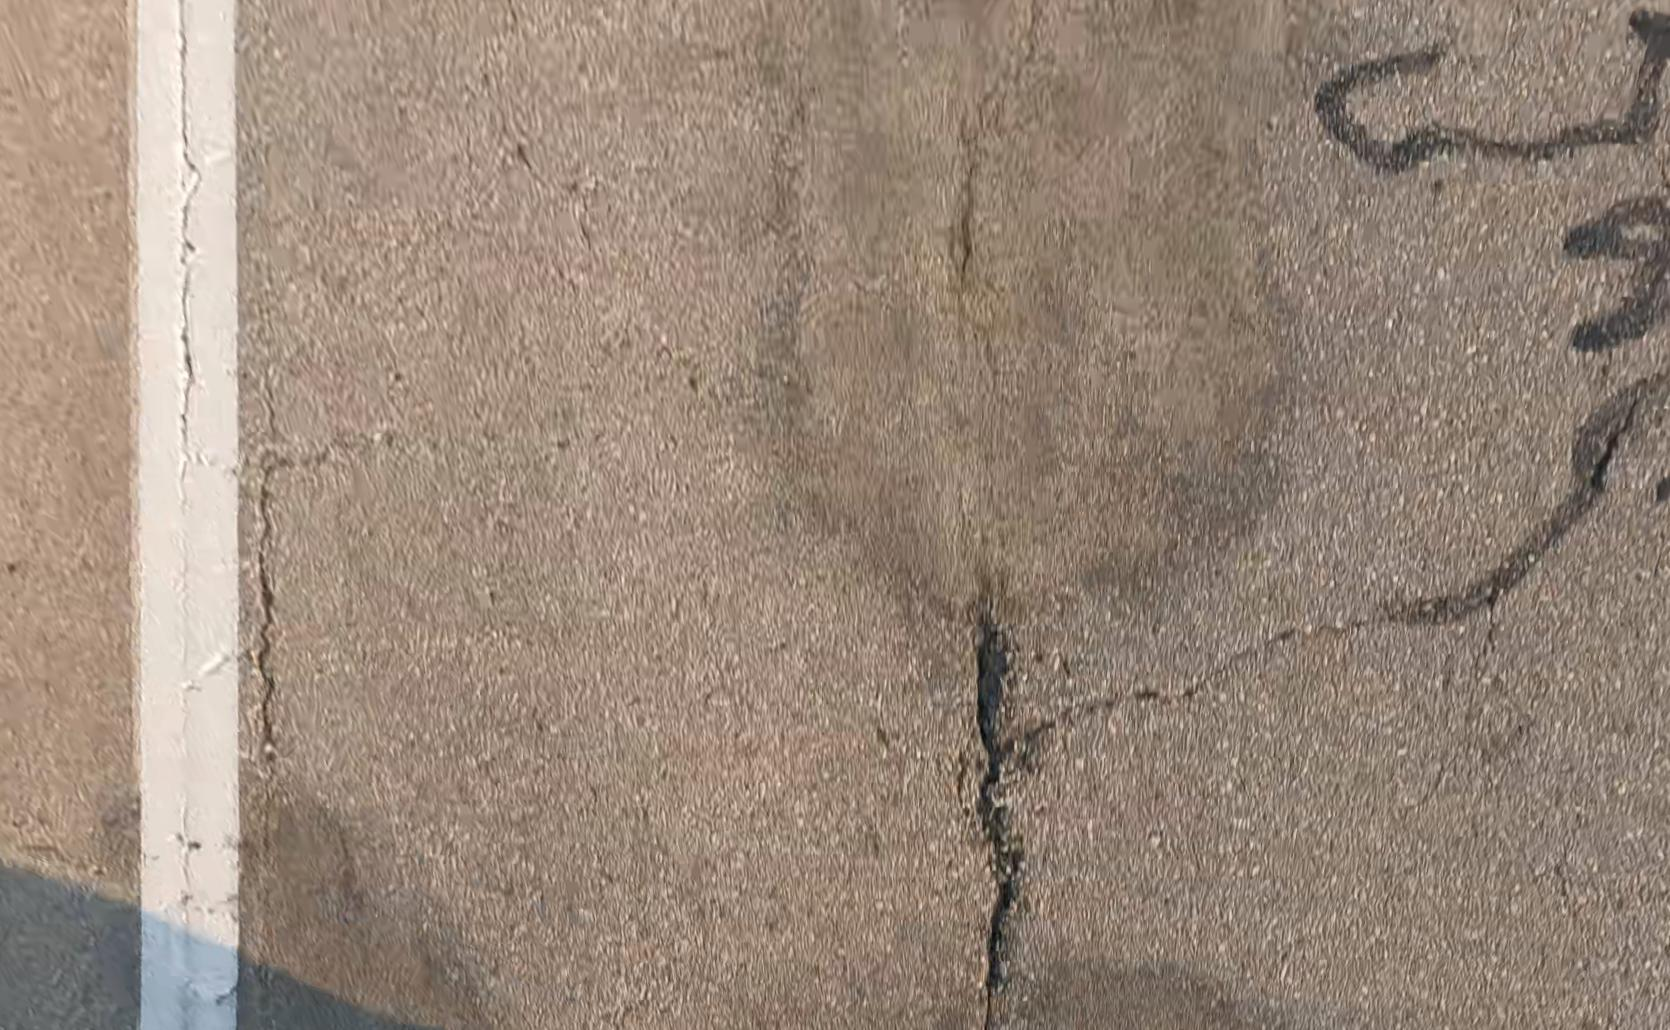pothole_patch_poor: (763, 21, 1311, 622)
